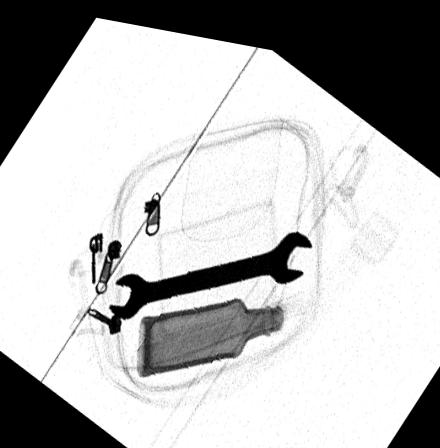Wrench: (106, 218, 314, 315)
